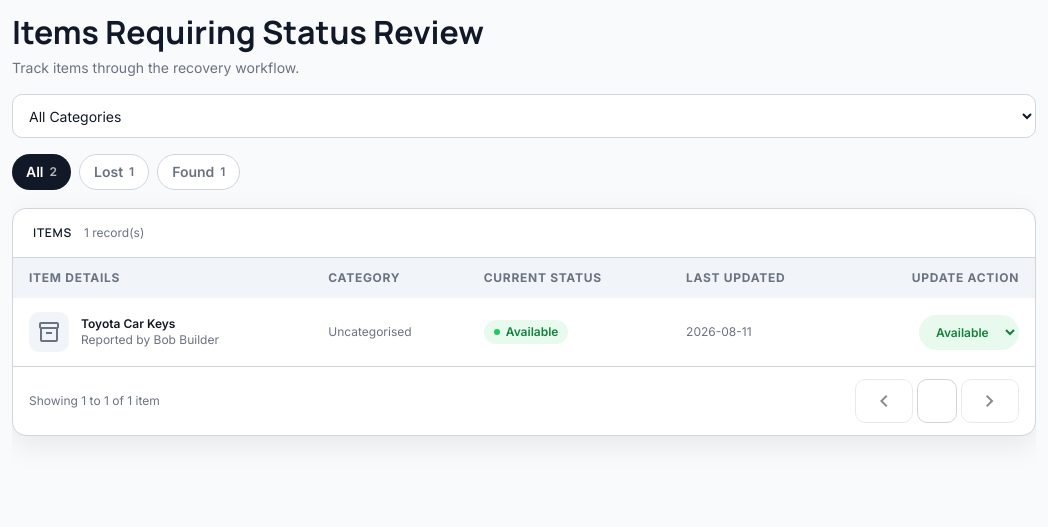
it: StatusUpdate › narrows items with the tabs and the search
Expected: the text "Toyota Car Keys" is shown, [81, 316, 175, 331]
Click the tab "Lost 1".
click(114, 172)  # box [79, 154, 149, 190]
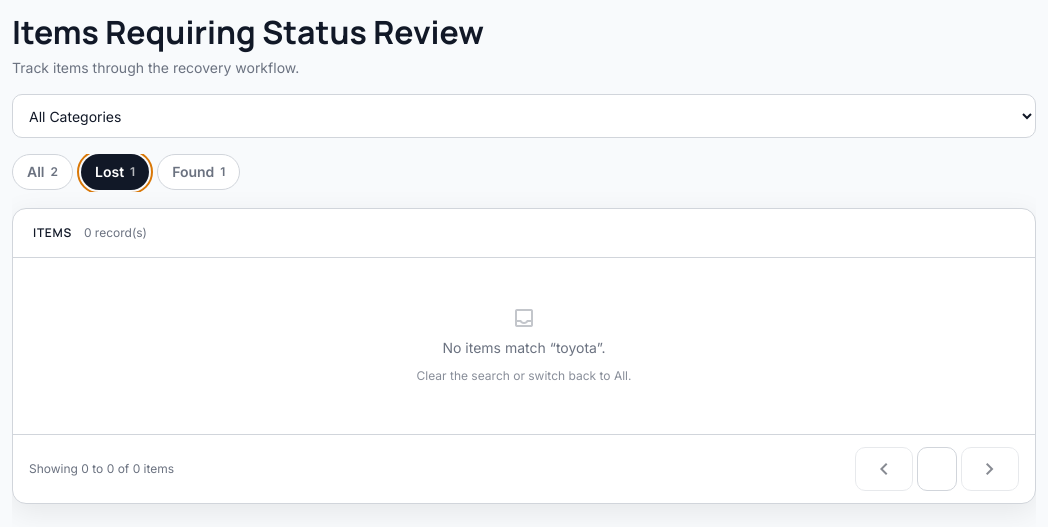
Expected: the text "No items match “toyota”." is shown, [442, 339, 606, 356]
